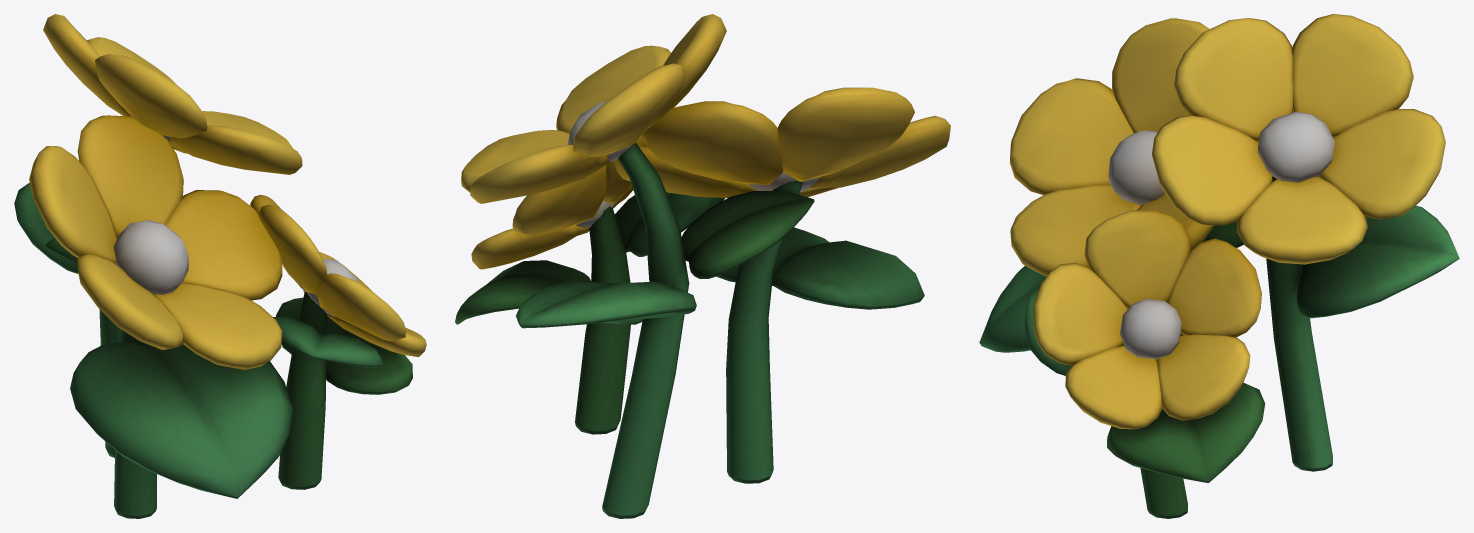
The model's file is SC_Flower02.fbx.
The picture shows the model from 3 angles, left to right: view 1: azimuth 30°, elevation 25°; view 2: azimuth 150°, elevation 25°; view 3: azimuth 270°, elevation 25°; orthographic projection. The views are drawn at different scales.
Parts seen in each view (by area): view 1: SC_Flower02; view 2: SC_Flower02; view 3: SC_Flower02.
Part boxes in pixels (left/top/right/bottom): SC_Flower02: left=14, top=14, right=426, bottom=518; SC_Flower02: left=455, top=14, right=950, bottom=518; SC_Flower02: left=979, top=14, right=1459, bottom=518.
Bounding box in the file's own units: 141 × 151 × 155.
